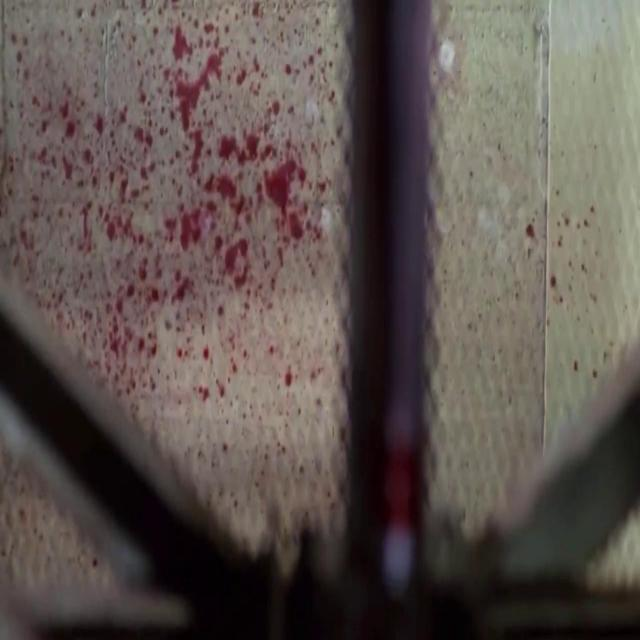flood: (80, 21, 316, 348)
